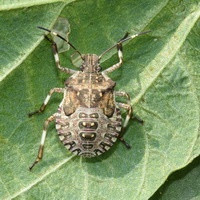insect: (29, 26, 150, 169)
